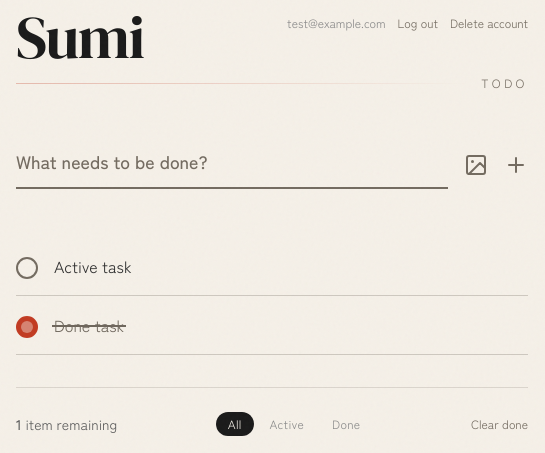
Test case: Home › フィルター › Done フィルターで完了済みのTodoのみ表示される
Check: the text "Active task" is shown, box [54,254,132,278]
What coordinates should you click on to do the following:
click the button "Done"
I would click on:
 (346, 424)
Its box is [320,412,372,436].
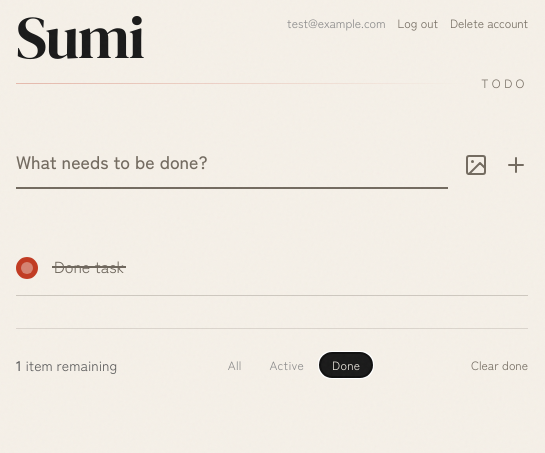
Check: the text "Done task" is shown, box [54,254,124,278]
Check: the text "Active task" is gone
